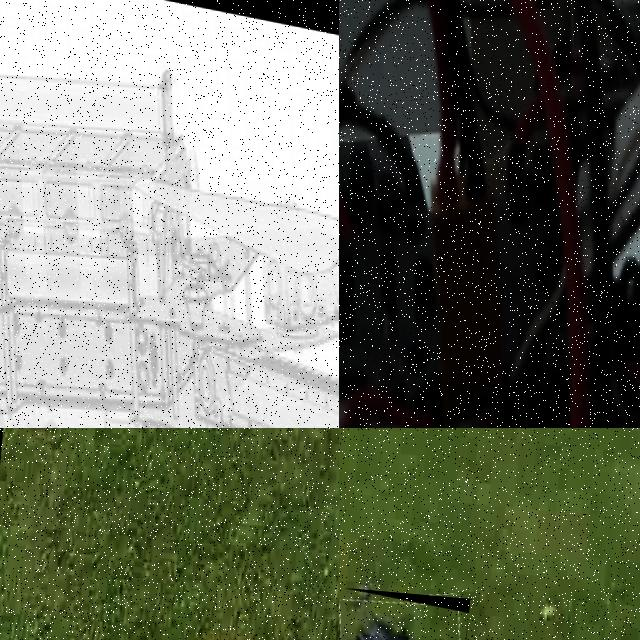0: (339, 587, 470, 640)
drone: (0, 0, 339, 428), (339, 0, 640, 428)
